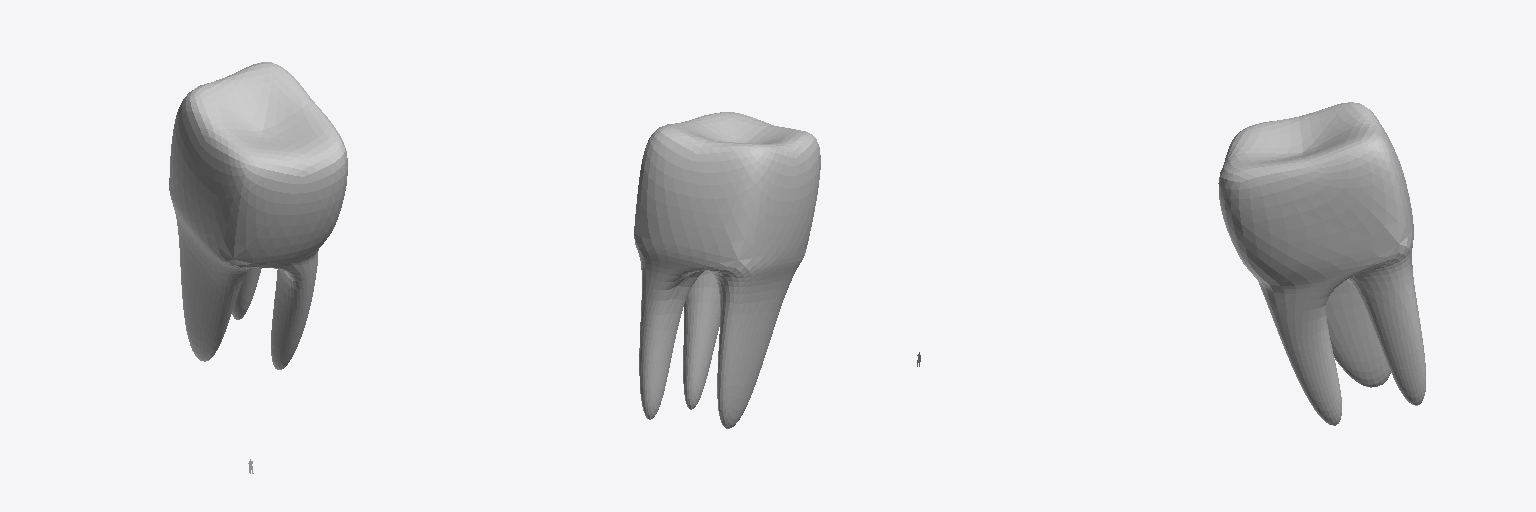
3 views of the same model, side by side, from view 1: azimuth 30°, elevation 25°; view 2: azimuth 150°, elevation 25°; view 3: azimuth 270°, elevation 25° (orthographic).
Visible parts, largest first — view 1: Mesh1 Group1 Model; view 2: Mesh1 Group1 Model; view 3: Mesh1 Group1 Model.
Boxes of the visible parts, x1,y1,x2,y2 form: Mesh1 Group1 Model: [169, 62, 347, 369]; Mesh1 Group1 Model: [634, 112, 820, 428]; Mesh1 Group1 Model: [1218, 102, 1425, 425].
Bounding box in the file's own units: 19.31 × 33.42 × 30.44.